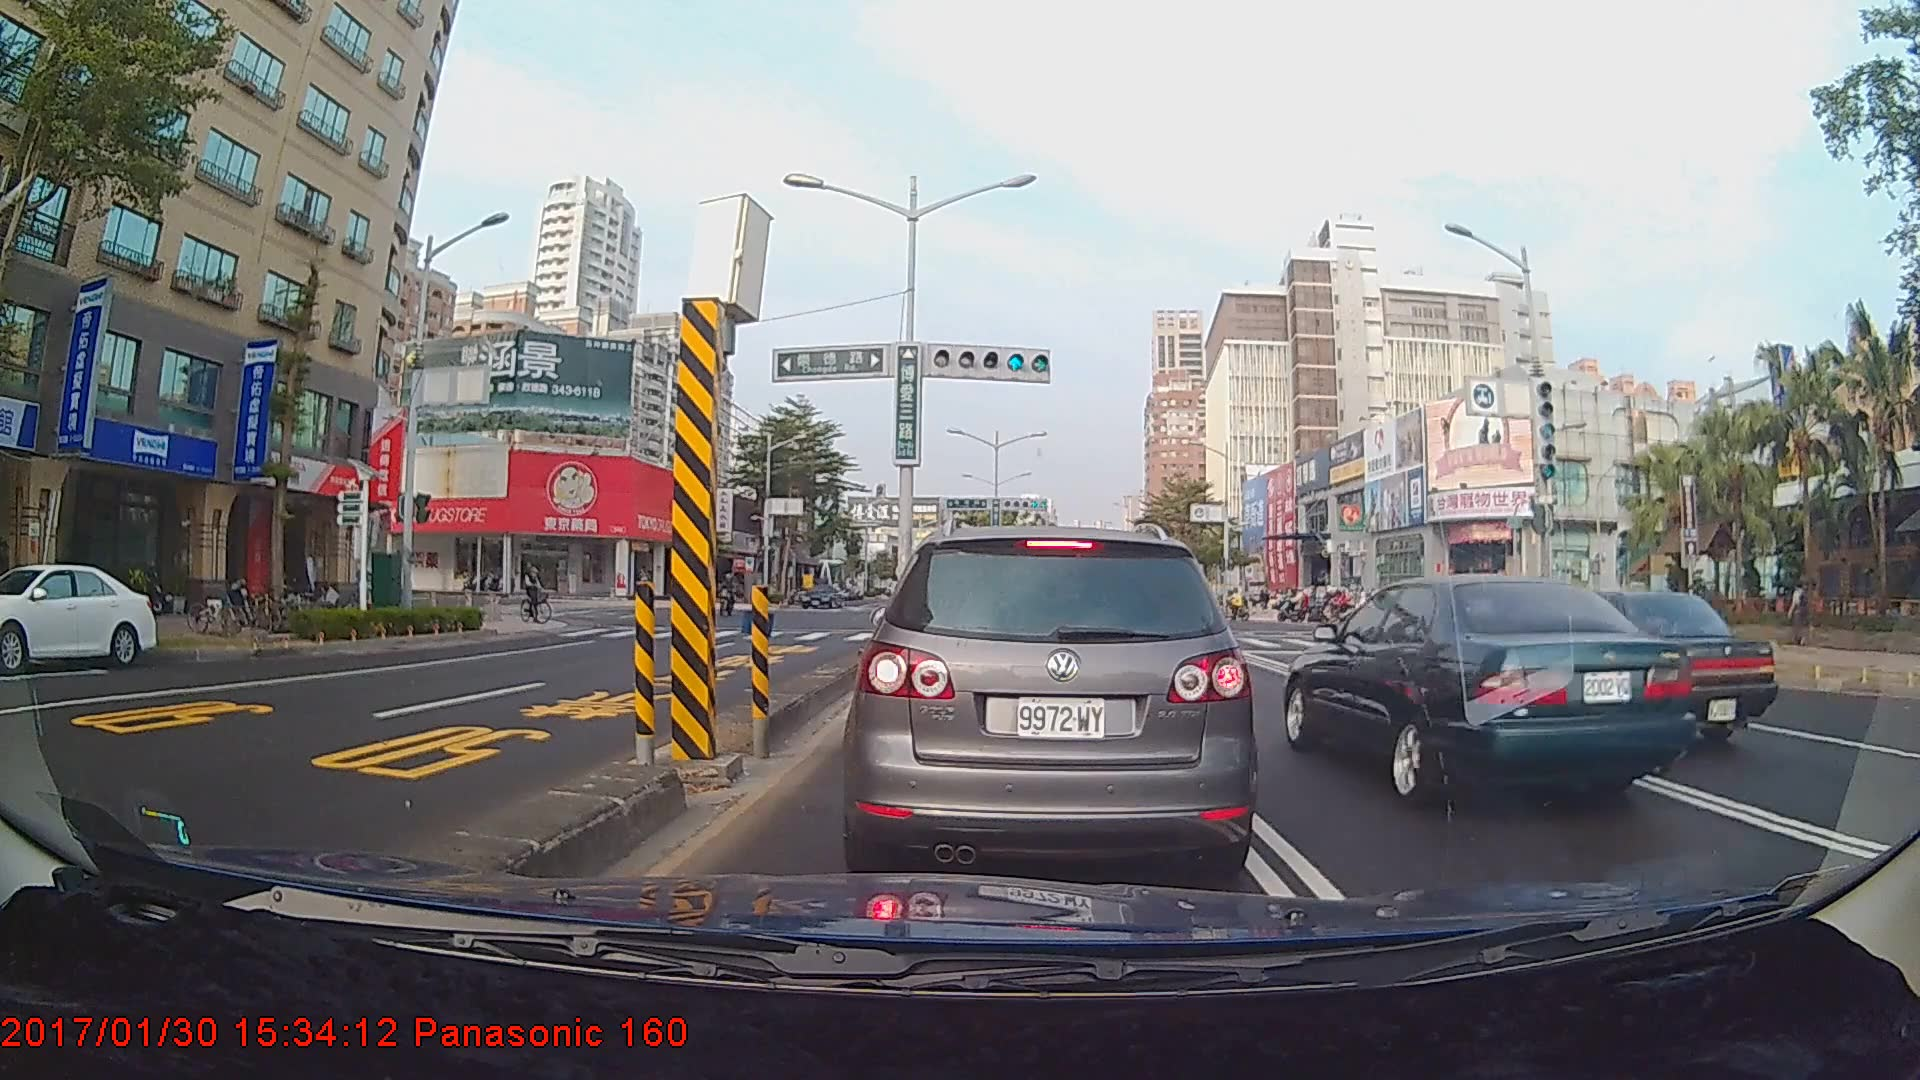pedestrian: (1786, 578, 1813, 645)
rider: (518, 559, 561, 629)
vehicle: (854, 521, 1252, 873), (1281, 572, 1696, 813), (1478, 586, 1779, 750), (0, 561, 161, 671), (800, 586, 842, 610)
